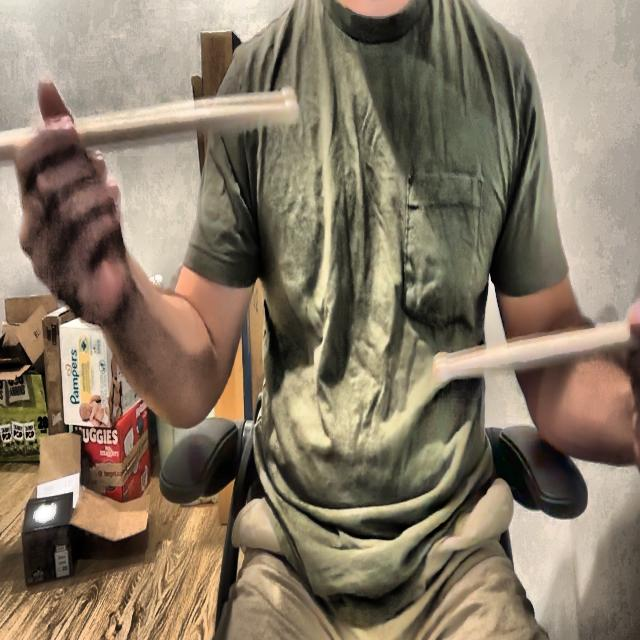Drumstick-Heads: (276, 76, 302, 128), (428, 349, 452, 386)
